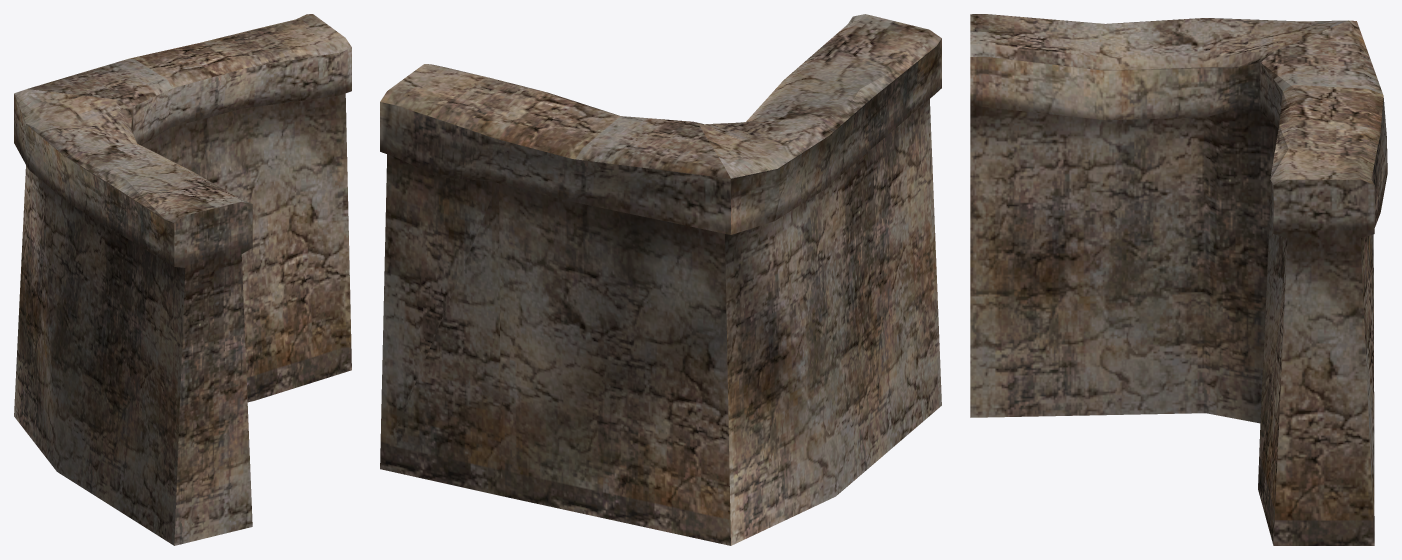
File: MWalA4.glb
3 views of the same model, side by side, from view 1: azimuth 30°, elevation 25°; view 2: azimuth 150°, elevation 25°; view 3: azimuth 270°, elevation 25° (orthographic). The views are drawn at different scales.
Parts seen in each view (by area): view 1: _MWalA4; view 2: _MWalA4; view 3: _MWalA4.
Part boxes in pixels (box(x1,y1,x2,y2)): _MWalA4: box(14, 14, 351, 545); _MWalA4: box(380, 14, 941, 545); _MWalA4: box(970, 14, 1387, 545).
Size of the model in its own units: 4.15 by 4.03 by 4.13.
Materials: 1 (1 with a texture image).
